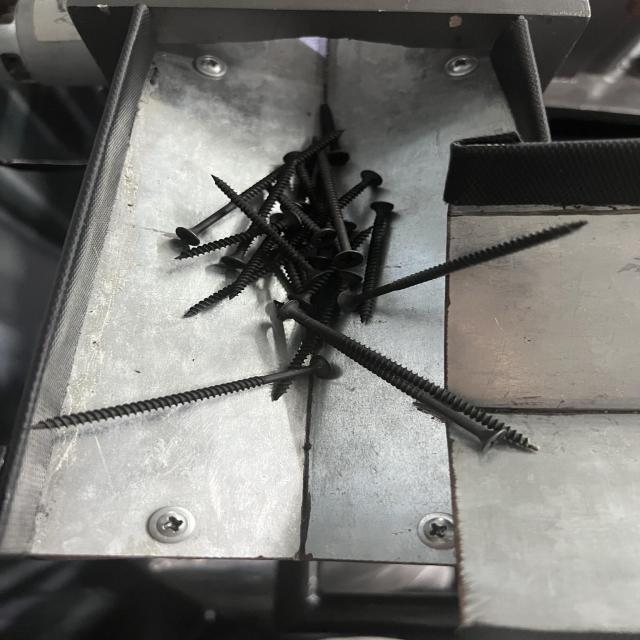screw: (276, 299, 545, 454), (30, 356, 333, 432), (173, 129, 346, 242), (212, 173, 323, 280)
